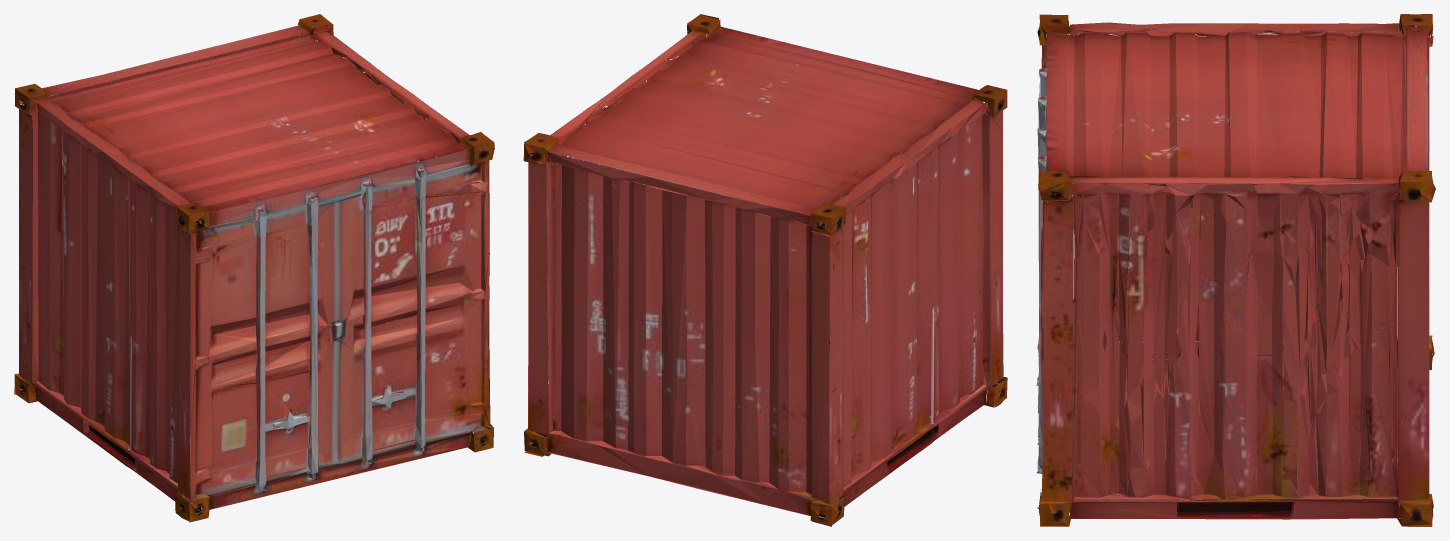
Rendered from shipping_container.glb.
The picture shows the model from 3 angles, left to right: view 1: azimuth 30°, elevation 25°; view 2: azimuth 150°, elevation 25°; view 3: azimuth 270°, elevation 25°; orthographic projection. The views are drawn at different scales.
Visible parts, largest first — view 1: obj.obj; view 2: obj.obj; view 3: obj.obj.
Part boxes in pixels (x1,y1,x2,y2): obj.obj: [14, 14, 494, 522]; obj.obj: [523, 14, 1007, 526]; obj.obj: [1036, 14, 1435, 526].
Bounding box in the file's own units: 2.7 × 2.6 × 2.68.
Materials: 1 (1 with a texture image).
